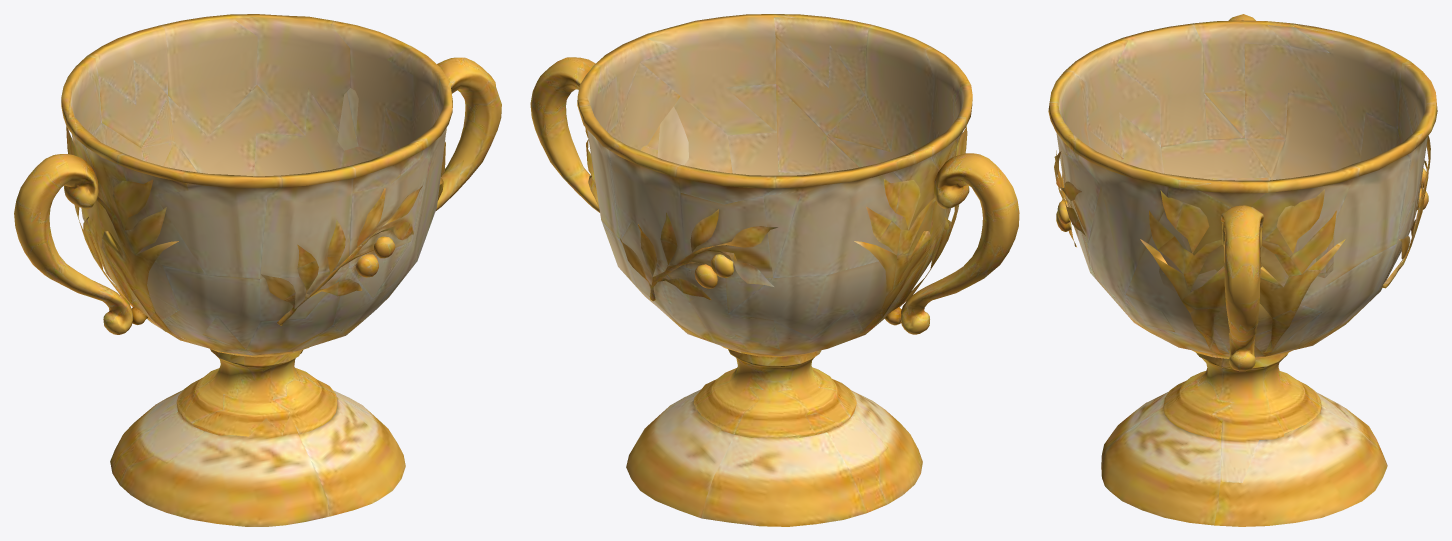
Rendered from Meshy_AI_cream_trophy_cup_1109192238_texture.glb.
3 renders of one model, left to right at view 1: azimuth 30°, elevation 25°; view 2: azimuth 150°, elevation 25°; view 3: azimuth 270°, elevation 25°, orthographic.
Parts seen in each view (by area): view 1: geometry_0; view 2: geometry_0; view 3: geometry_0.
Boxes of the visible parts, left/top/right/bottom form: geometry_0: left=14, top=14, right=501, bottom=526; geometry_0: left=530, top=14, right=1019, bottom=526; geometry_0: left=1048, top=14, right=1437, bottom=526.
Size of the model in its own units: 0.957 by 0.6992 by 0.6787.
1 material, 1 textured.
